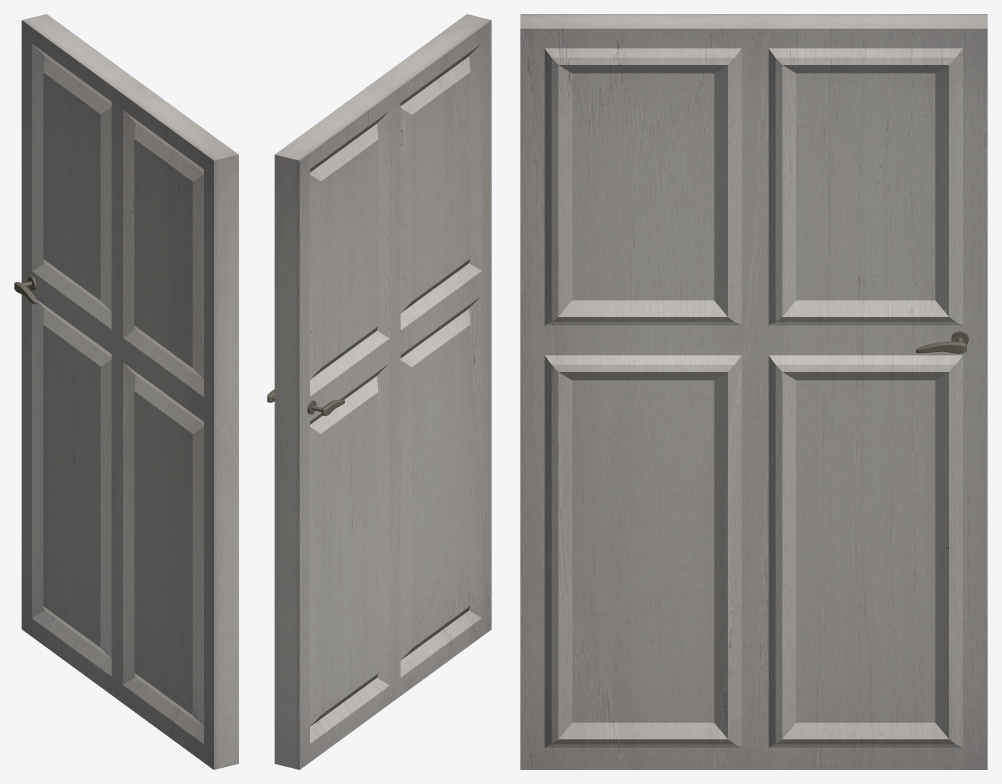
The model's file is Door.FBX.
3 renders of one model, left to right at view 1: azimuth 30°, elevation 25°; view 2: azimuth 150°, elevation 25°; view 3: azimuth 270°, elevation 25°, orthographic. The views are drawn at different scales.
Parts seen in each view (by area): view 1: Cylinder002; view 2: Cylinder002; view 3: Cylinder002.
Boxes of the visible parts, bbox=[...] form: Cylinder002: bbox=[14, 14, 238, 769]; Cylinder002: bbox=[267, 14, 491, 769]; Cylinder002: bbox=[520, 14, 987, 769].
Bounding box in the file's own units: 14.39 × 140 × 80.
Materials: 2 (1 with a texture image).
